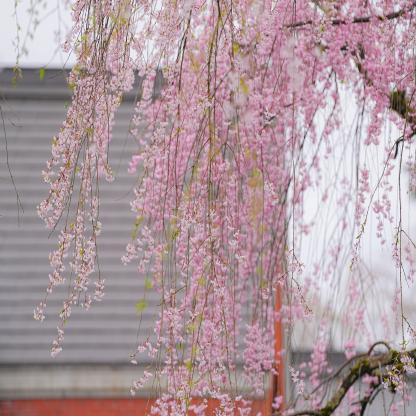ShidareZakura: (34, 0, 416, 416)
